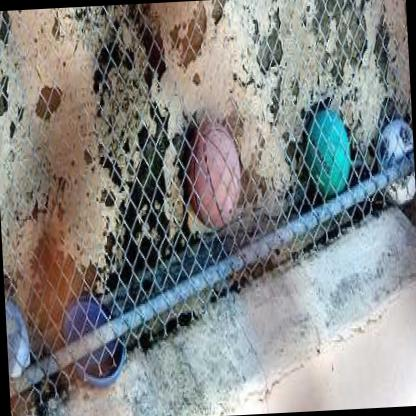ball: (184, 117, 244, 232), (302, 104, 353, 197), (376, 116, 416, 204), (4, 295, 32, 399)
